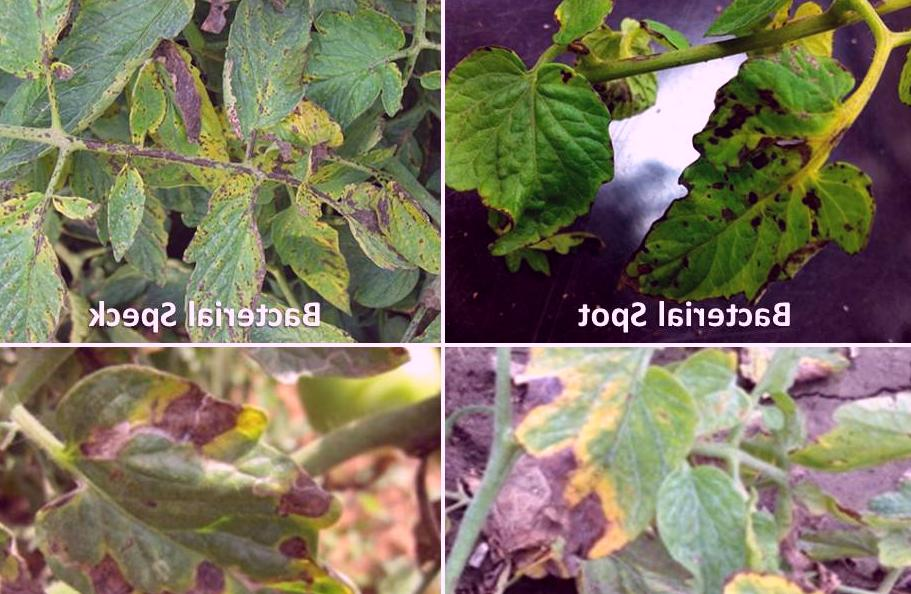Tomato Early blight leaf: (499, 358, 880, 594)
Tomato leaf bacterial spot: (623, 56, 880, 324), (447, 54, 642, 285), (0, 0, 192, 180), (176, 150, 283, 338), (212, 0, 326, 156), (0, 182, 107, 335), (87, 143, 158, 260), (122, 50, 173, 141)
